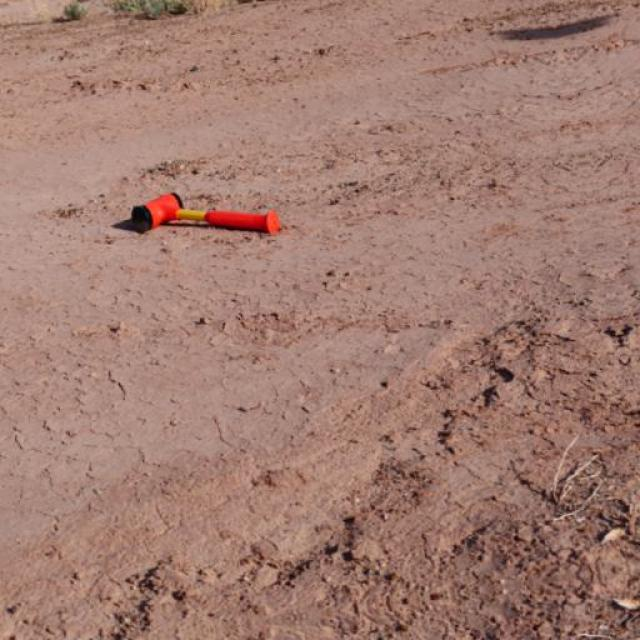mallet: (132, 190, 282, 236)
